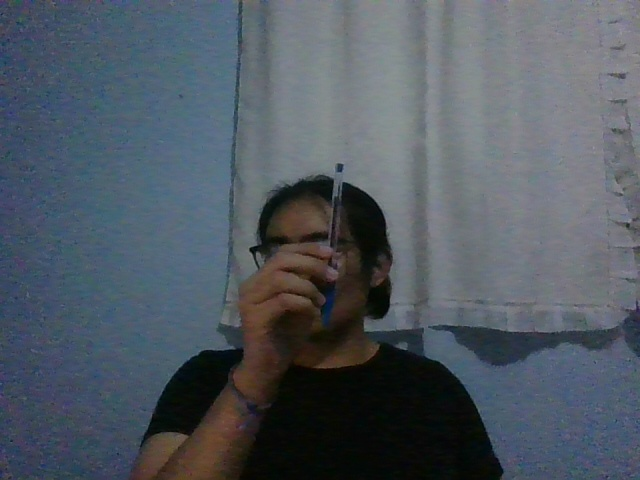pluma: (321, 162, 344, 325)
